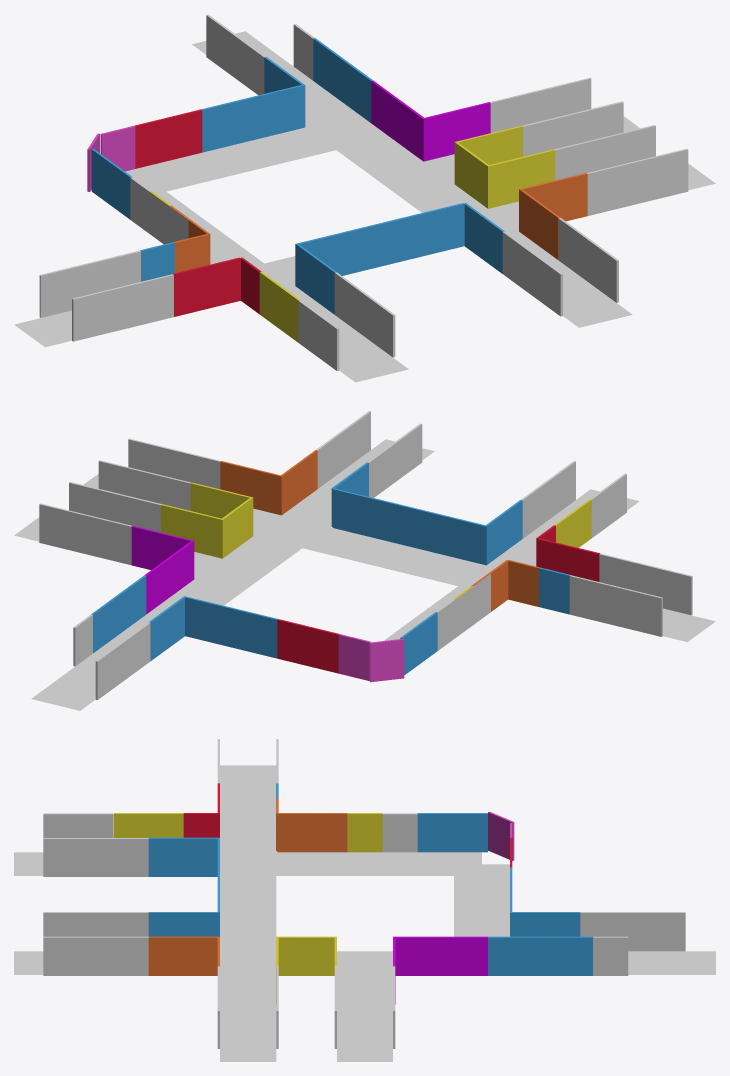
File: map-transformed.glb
The picture shows the model from 3 angles, top to bottom: view 1: azimuth 30°, elevation 25°; view 2: azimuth 150°, elevation 25°; view 3: azimuth 270°, elevation 25°; orthographic projection. The views are drawn at different scales.
Parts seen in each view (by area): view 1: road-1, building-1.003; view 2: road-1, building-1.003; view 3: road-1, building-1.003.
Part boxes in pixels (x1,y1,x2,y2): road-1: [14, 14, 715, 382]; building-1.003: [87, 38, 587, 342]; road-1: [14, 411, 715, 710]; building-1.003: [91, 450, 599, 682]; road-1: [14, 739, 715, 1061]; building-1.003: [113, 783, 593, 1004].
Size of the model in its own units: 300 by 18.09 by 300.
Materials: 1 (1 with a texture image).
